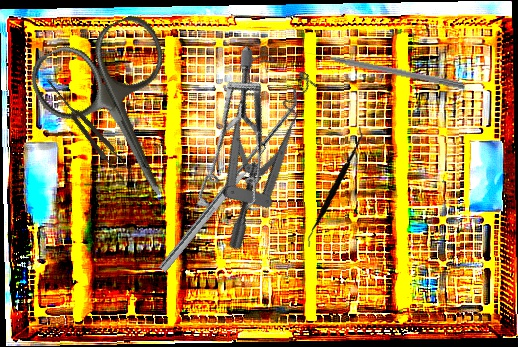Iris Scissors: (22, 8, 219, 224)
Pusher: (303, 47, 467, 90)
Spatula Surgical: (151, 87, 307, 273), (294, 126, 374, 248)
Speculum: (153, 41, 349, 253), (147, 45, 335, 238)
Tissue Forceps: (42, 74, 134, 183)
